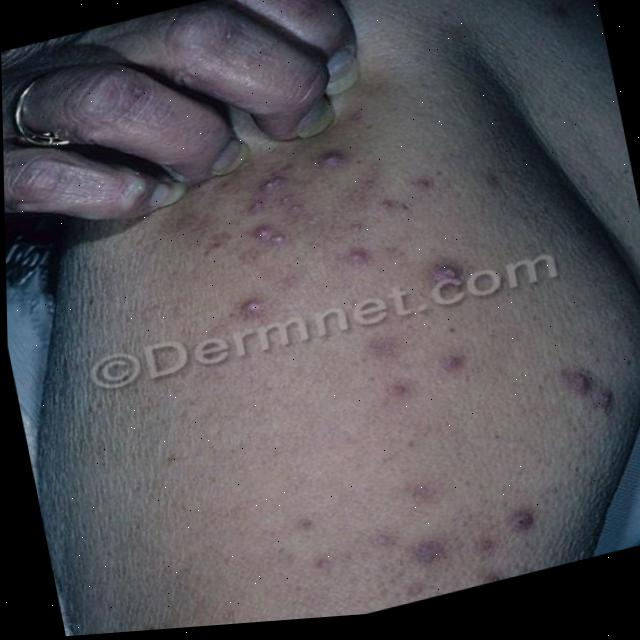Eczema: (197, 101, 620, 626)
